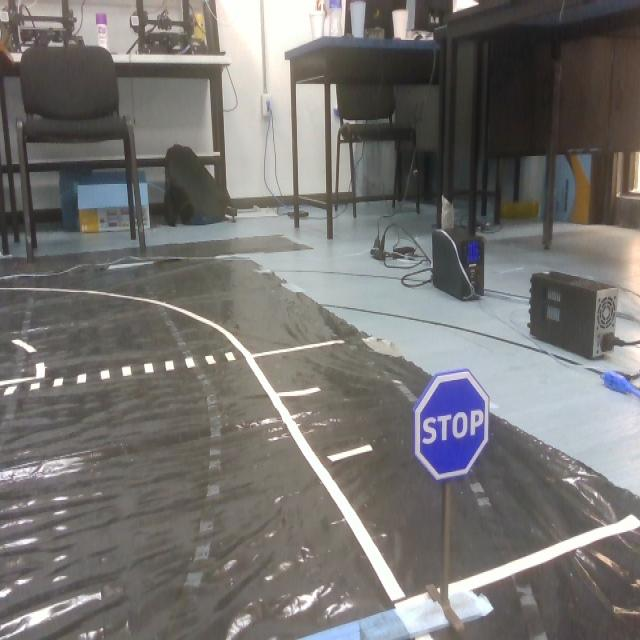no_entry: (416, 364, 494, 480)
